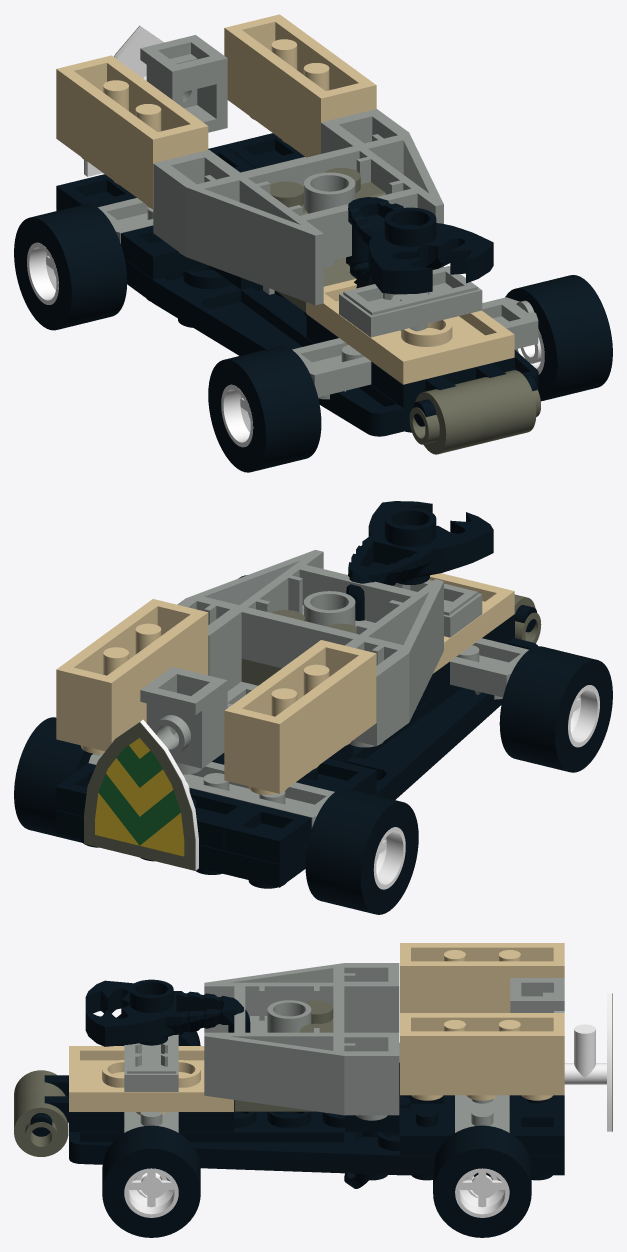
Rendered from Pharaoh Mummy.dae.
The picture shows the model from 3 angles, top to bottom: view 1: azimuth 30°, elevation 25°; view 2: azimuth 150°, elevation 25°; view 3: azimuth 270°, elevation 25°; orthographic projection. The views are drawn at different scales.
Parts seen in each view (by area): view 1: 2399_dot_dat, 30028_dot_dat (×3), 3622_dot_dat (×2), 2413_dot_dat, 30169_dot_dat, 3021_dot_dat, 3062b_dot_dat (×2), 2926_dot_dat (×2), 15573_dot_dat, 4070_dot_dat, 3024_dot_dat (×2), 30027a_dot_dat (×2) (+4 smaller); view 2: 3622_dot_dat (×2), 30028_dot_dat (×3), 2399_dot_dat, 3846d03_dot_dat, 2413_dot_dat, 30169_dot_dat, 4070_dot_dat, 2926_dot_dat (×2), 3024_dot_dat (×2), 30027a_dot_dat (×2), 3021_dot_dat, 2420_dot_dat (+6 smaller); view 3: 2399_dot_dat, 3622_dot_dat (×2), 30028_dot_dat (×2), 2413_dot_dat, 30169_dot_dat, 3021_dot_dat, 30027a_dot_dat (×2), 2420_dot_dat, 3062b_dot_dat (×2), 15573_dot_dat, 3846d03_dot_dat, 2926_dot_dat (×2) (+6 smaller).
Part boxes in pixels (left/top/right/bottom): 2399_dot_dat: left=153, top=109, right=443, bottom=305; 30028_dot_dat (×3): left=14, top=204, right=612, bottom=472; 3622_dot_dat (×2): left=56, top=14, right=376, bottom=208; 2413_dot_dat: left=56, top=209, right=538, bottom=436; 30169_dot_dat: left=346, top=197, right=493, bottom=294; 3021_dot_dat: left=306, top=279, right=514, bottom=384; 3062b_dot_dat (×2): left=409, top=370, right=540, bottom=454; 2926_dot_dat (×2): left=98, top=157, right=538, bottom=399; 15573_dot_dat: left=339, top=266, right=482, bottom=337; 4070_dot_dat: left=140, top=35, right=227, bottom=132; 3024_dot_dat (×2): left=56, top=133, right=304, bottom=210; 30027a_dot_dat (×2): left=27, top=242, right=253, bottom=447; 3622_dot_dat (×2): left=56, top=599, right=376, bottom=794; 30028_dot_dat (×3): left=14, top=646, right=612, bottom=914; 2399_dot_dat: left=177, top=550, right=443, bottom=747; 3846d03_dot_dat: left=84, top=719, right=198, bottom=870; 2413_dot_dat: left=56, top=638, right=537, bottom=888; 30169_dot_dat: left=346, top=501, right=493, bottom=620; 4070_dot_dat: left=140, top=667, right=227, bottom=774; 2926_dot_dat (×2): left=88, top=638, right=528, bottom=828; 3024_dot_dat (×2): left=56, top=763, right=311, bottom=863; 30027a_dot_dat (×2): left=373, top=685, right=599, bottom=889; 3021_dot_dat: left=429, top=573, right=514, bottom=673; 2420_dot_dat: left=296, top=744, right=376, bottom=794; 2399_dot_dat: left=204, top=963, right=399, bottom=1120; 3622_dot_dat (×2): left=400, top=943, right=564, bottom=1100; 30028_dot_dat (×2): left=102, top=1125, right=531, bottom=1237; 2413_dot_dat: left=69, top=1063, right=564, bottom=1180; 30169_dot_dat: left=85, top=979, right=250, bottom=1046; 3021_dot_dat: left=69, top=1046, right=233, bottom=1115; 30027a_dot_dat (×2): left=124, top=1168, right=509, bottom=1217; 2420_dot_dat: left=345, top=1089, right=454, bottom=1155; 3062b_dot_dat (×2): left=14, top=1070, right=68, bottom=1156; 15573_dot_dat: left=124, top=1034, right=178, bottom=1091; 3846d03_dot_dat: left=564, top=993, right=612, bottom=1131; 2926_dot_dat (×2): left=124, top=1095, right=509, bottom=1132.
Size of the model in its own units: 124 by 78.35 by 217.
